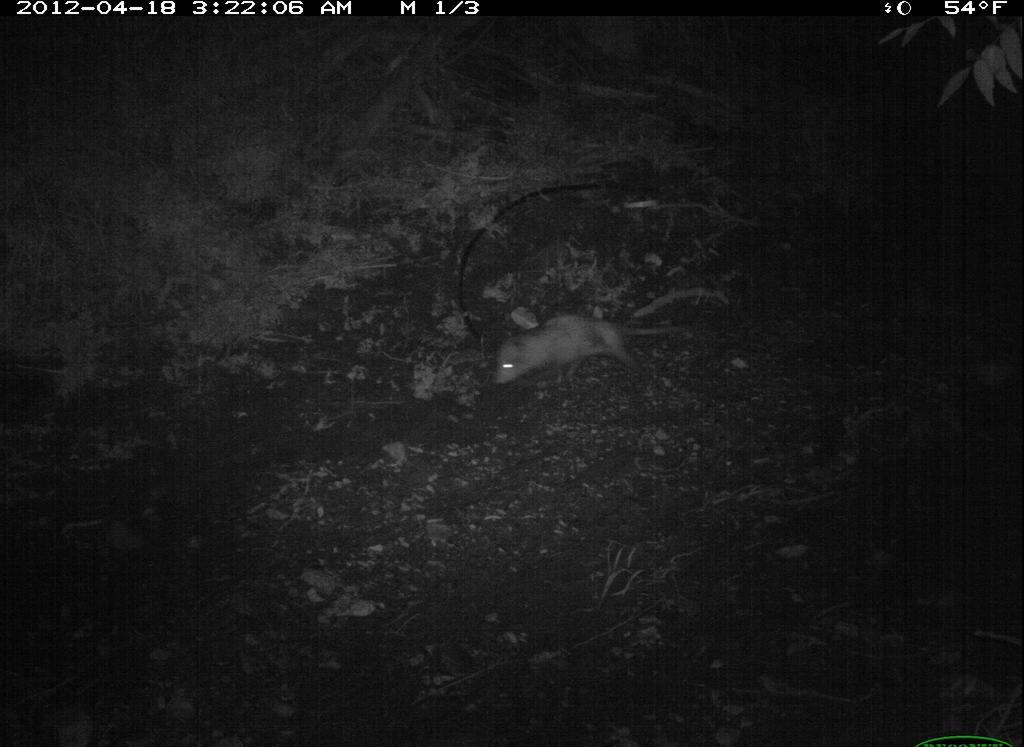opossum: (488, 303, 692, 392)
